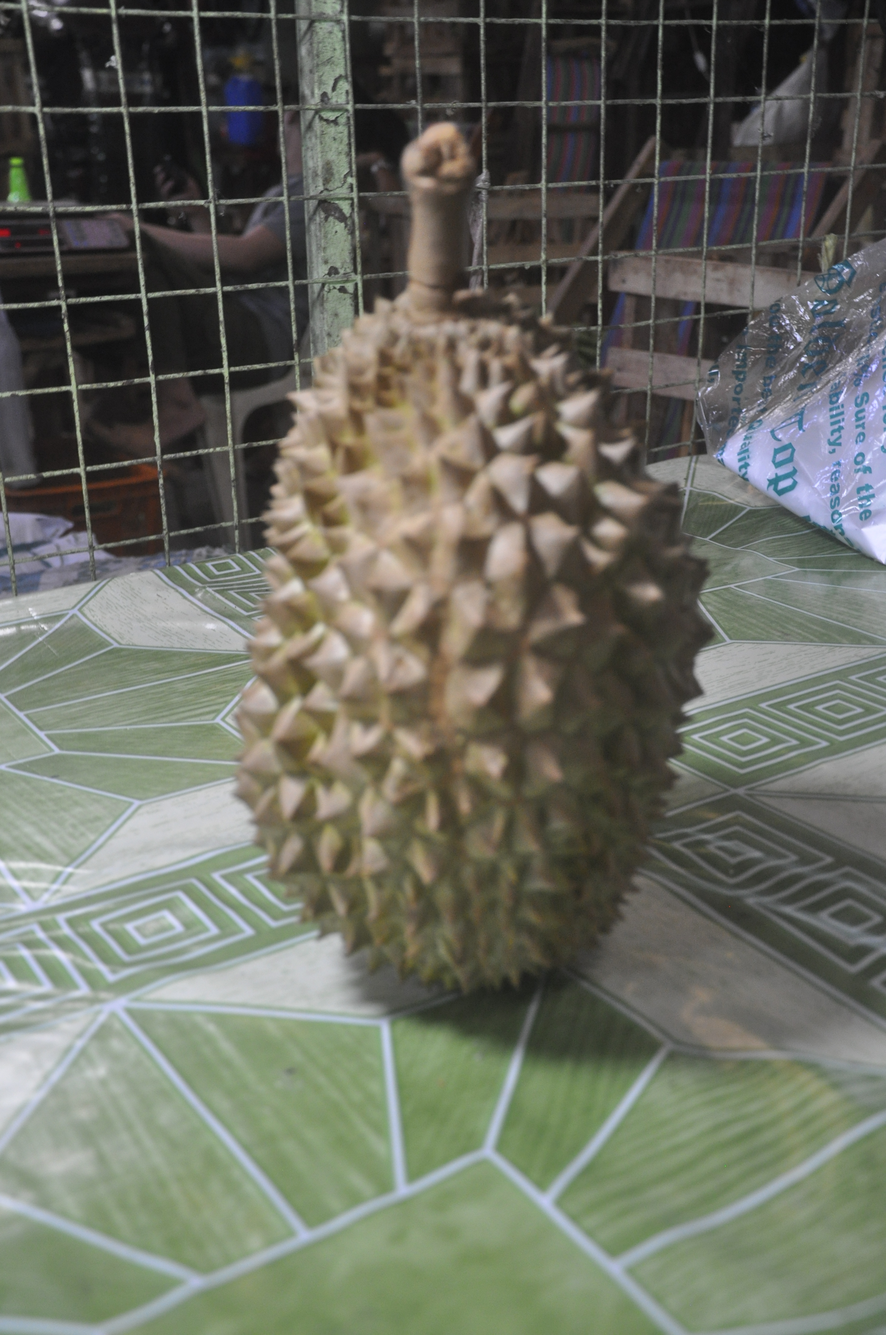mature: (238, 124, 710, 991)
